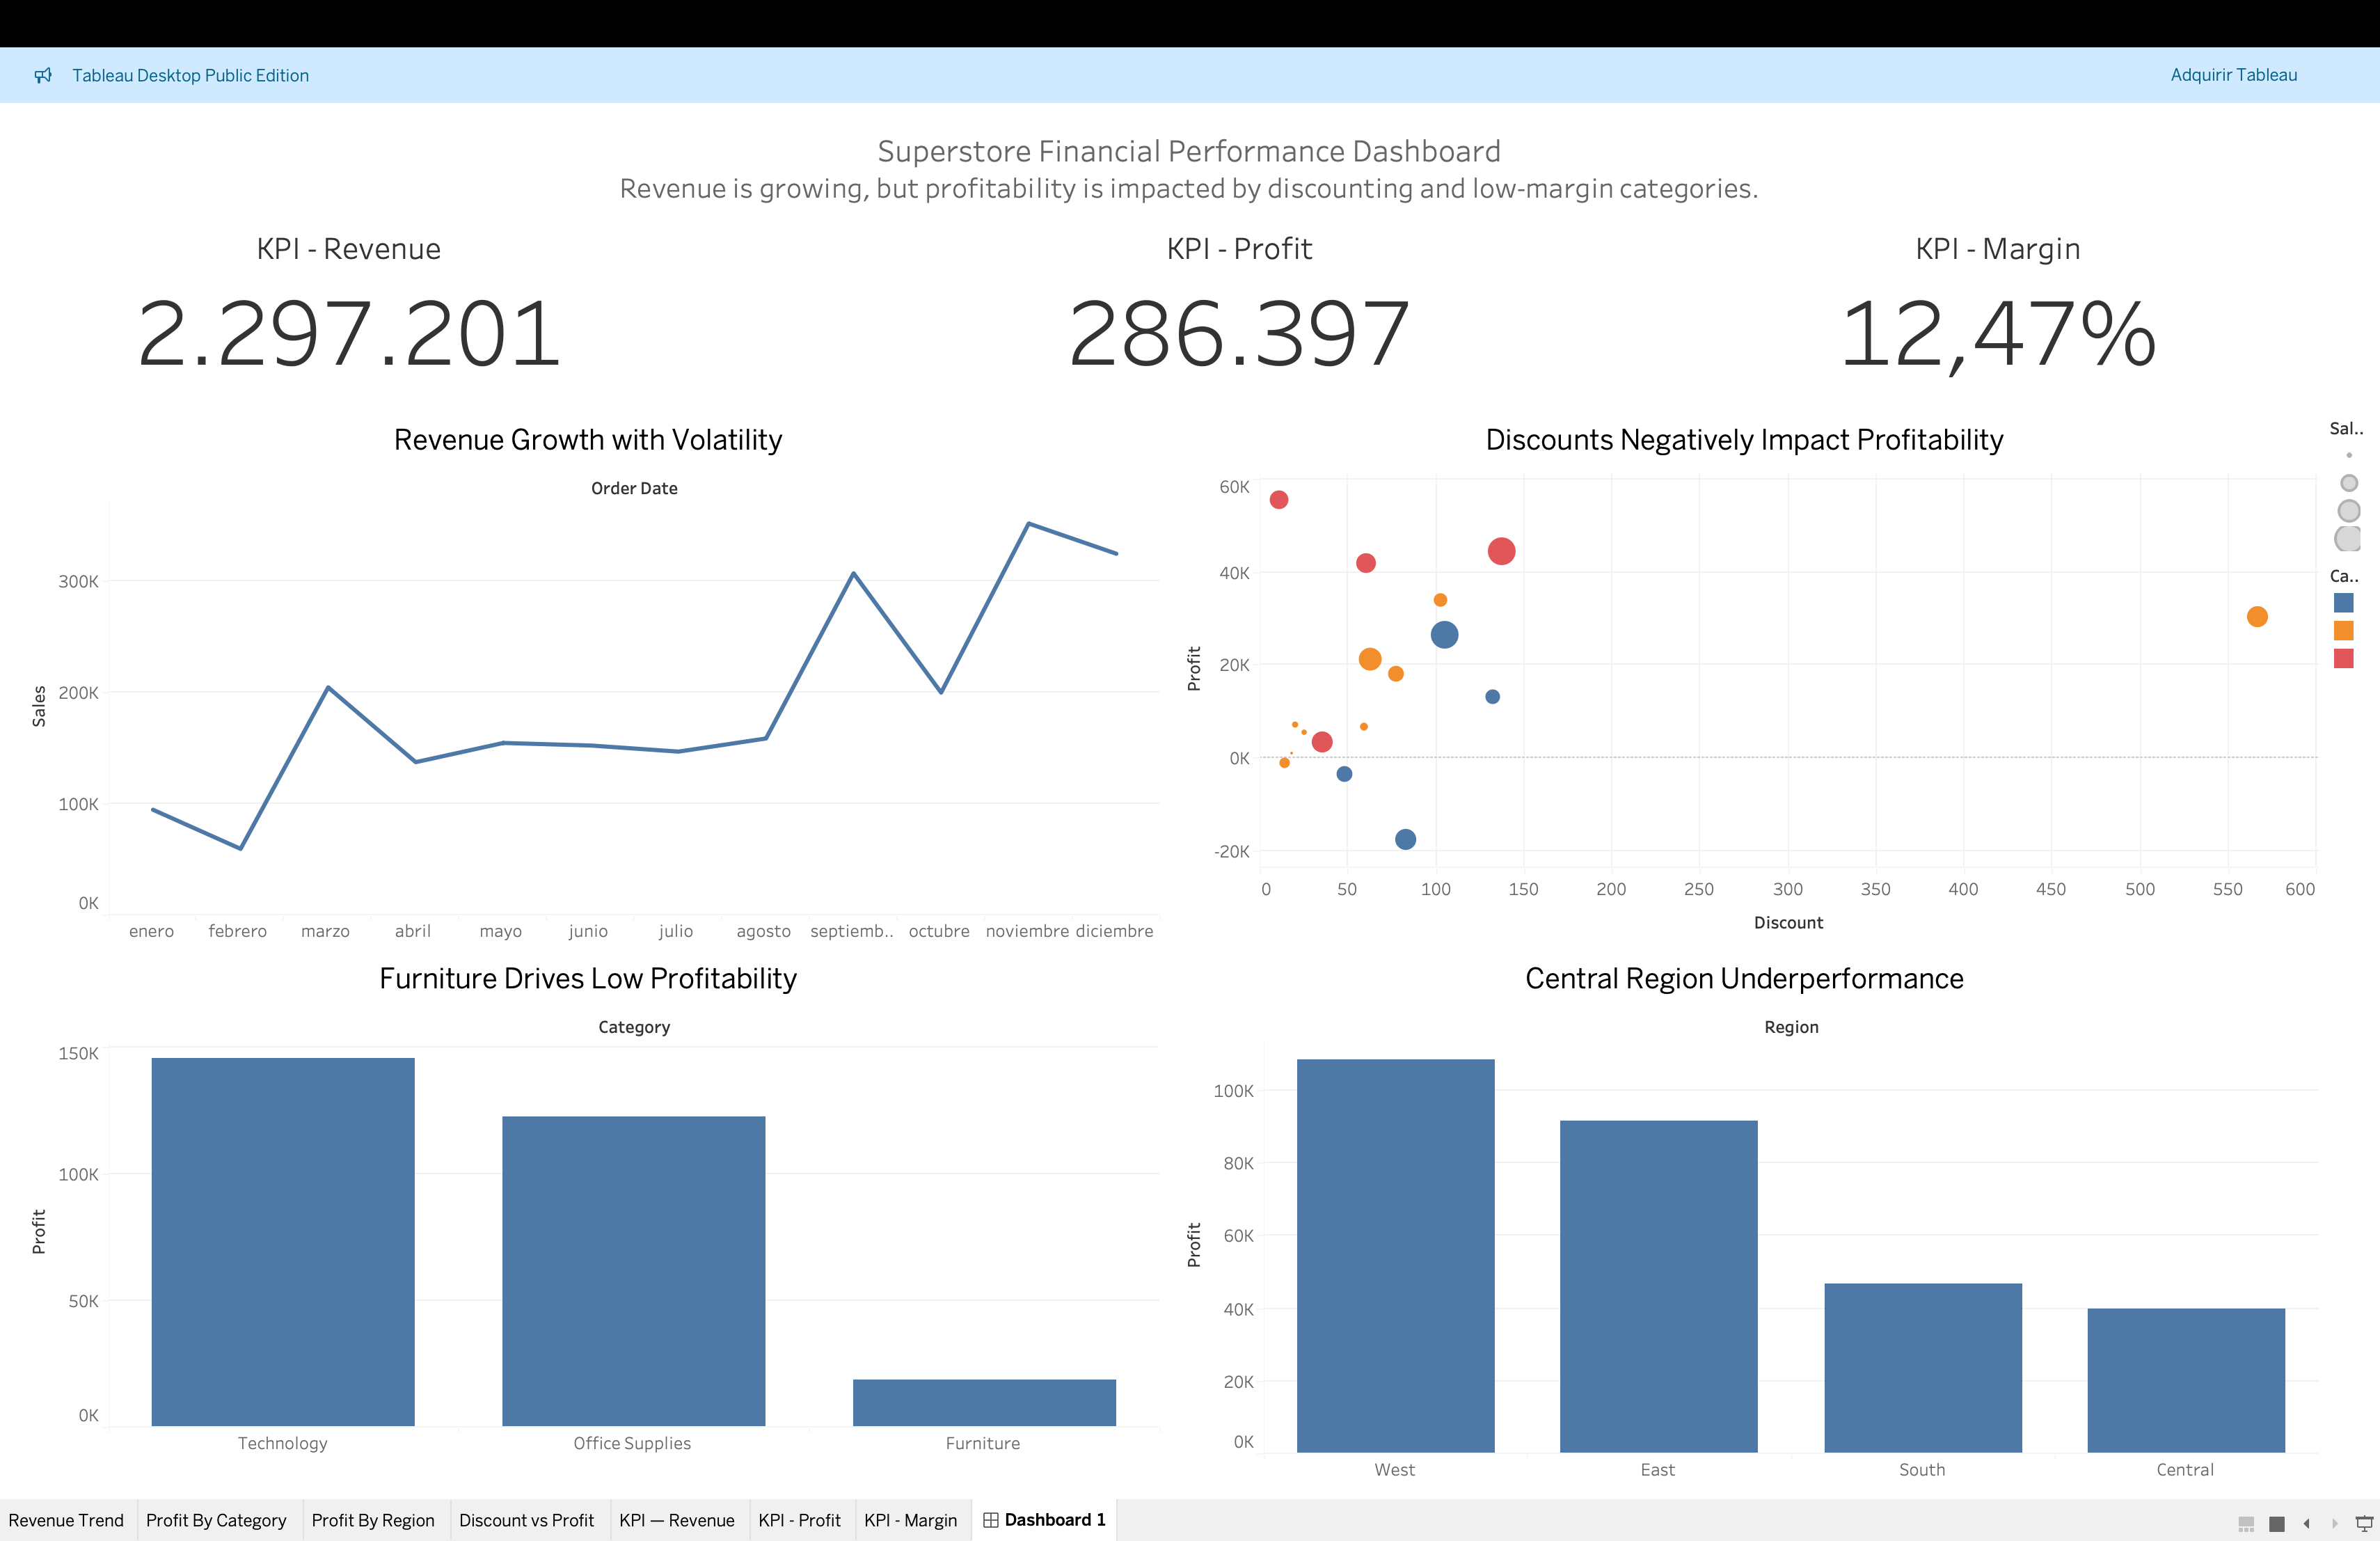

The page's visual inventory and layout, read from the dashboard file:
{"tool":"tableau","page":{"name":"Dashboard 1","canvas":[1000,1000],"units":"permille","ordinal":0},"visuals":[{"type":"text","box":[5.3,8.8,989.3,76.7]},{"type":"worksheet","title":"KPI — Revenue","mark":"Automatic","box":[5.3,85.4,353.6,135.8]},{"type":"worksheet","title":"KPI - Profit","mark":"Automatic","box":[358.9,85.4,325.6,135.8]},{"type":"worksheet","title":"KPI - Margin","mark":"Automatic","box":[684.5,85.4,310.2,135.8]},{"type":"worksheet","title":"Revenue Trend","mark":"Automatic","rows":["Sales"],"cols":["Order Date"],"box":[5.3,221.2,483.6,385]},{"type":"worksheet","title":"Discount vs Profit","mark":"Circle","rows":["Profit"],"cols":["Discount"],"box":[488.9,221.2,484.4,385]},{"type":"legend","title":"Discount vs Profit","param":"[federated.0qd6ghd1ryu8c9155cacq0gjr0l0].[sum:Sales:qk]","box":[973.3,221.2,21.4,116.1]},{"type":"legend","title":"Discount vs Profit","param":"[federated.0qd6ghd1ryu8c9155cacq0gjr0l0].[none:Category:nk]","box":[973.3,337.3,21.4,94.2]},{"type":"worksheet","title":"Profit By Category","mark":"Automatic","rows":["Profit"],"cols":["Category"],"box":[5.3,606.2,483.6,385]},{"type":"worksheet","title":"Profit By Region","mark":"Automatic","rows":["Profit"],"cols":["Region"],"box":[488.9,606.2,484.4,385]}]}

Visuals, with their boxes on the dashboard's canvas, which has no fixed pixel size, in thousandths of its width and height (x1, y1, x2, y2). These are canvas units, not pixel positions in the 2380x1541 screenshot, which may show the page scaled, cropped or inside an application window:
text: l=5, t=9, r=995, b=86
"KPI — Revenue" worksheet: l=5, t=85, r=359, b=221
"KPI - Profit" worksheet: l=359, t=85, r=684, b=221
"KPI - Margin" worksheet: l=684, t=85, r=995, b=221
"Revenue Trend" worksheet: l=5, t=221, r=489, b=606
"Discount vs Profit" worksheet (Circle marks): l=489, t=221, r=973, b=606
"Discount vs Profit" legend: l=973, t=221, r=995, b=337
"Discount vs Profit" legend: l=973, t=337, r=995, b=432
"Profit By Category" worksheet: l=5, t=606, r=489, b=991
"Profit By Region" worksheet: l=489, t=606, r=973, b=991
